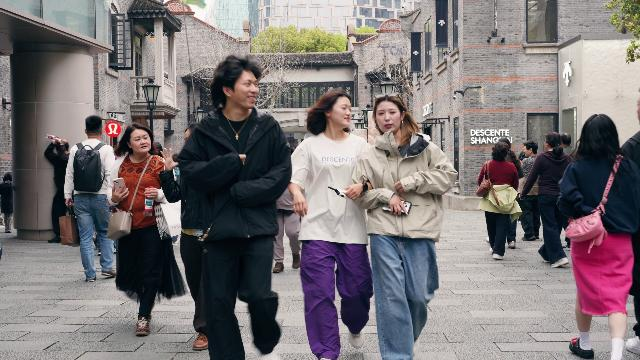person: (175, 54, 293, 360), (342, 93, 459, 360), (289, 89, 374, 360), (557, 114, 640, 360), (106, 122, 190, 336), (157, 122, 209, 351), (64, 115, 118, 282), (516, 132, 574, 268), (477, 141, 520, 260), (498, 136, 525, 249), (44, 138, 71, 244), (516, 140, 541, 241), (559, 133, 575, 250), (0, 171, 14, 233)
